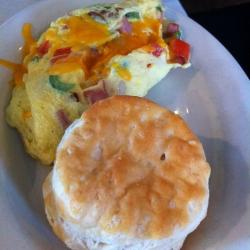bread: (41, 106, 207, 250)
omelette: (11, 4, 164, 136)
